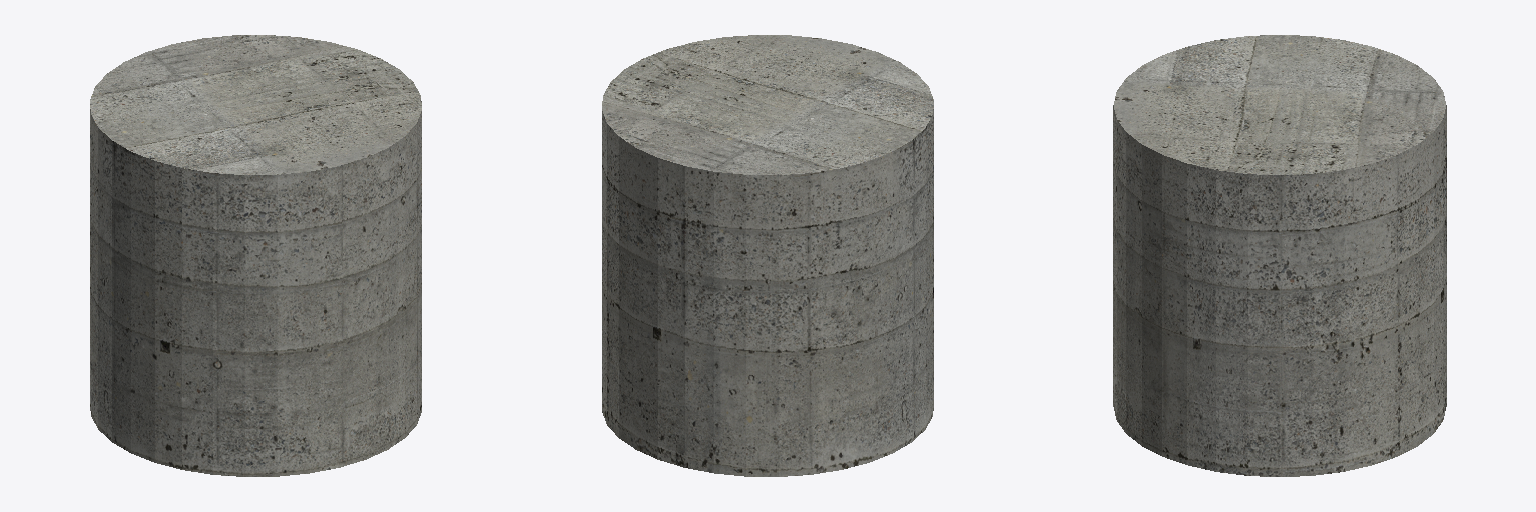
3 renders of one model, left to right at view 1: azimuth 30°, elevation 25°; view 2: azimuth 150°, elevation 25°; view 3: azimuth 270°, elevation 25°, orthographic.
Visible parts, largest first — view 1: Cylinder; view 2: Cylinder; view 3: Cylinder.
Part boxes in pixels (x1,y1,x2,y2): Cylinder: (90, 35, 421, 476); Cylinder: (602, 35, 933, 476); Cylinder: (1113, 35, 1446, 476).
Size of the model in its own units: 2 by 2 by 2.
Materials: 1 (1 with a texture image).